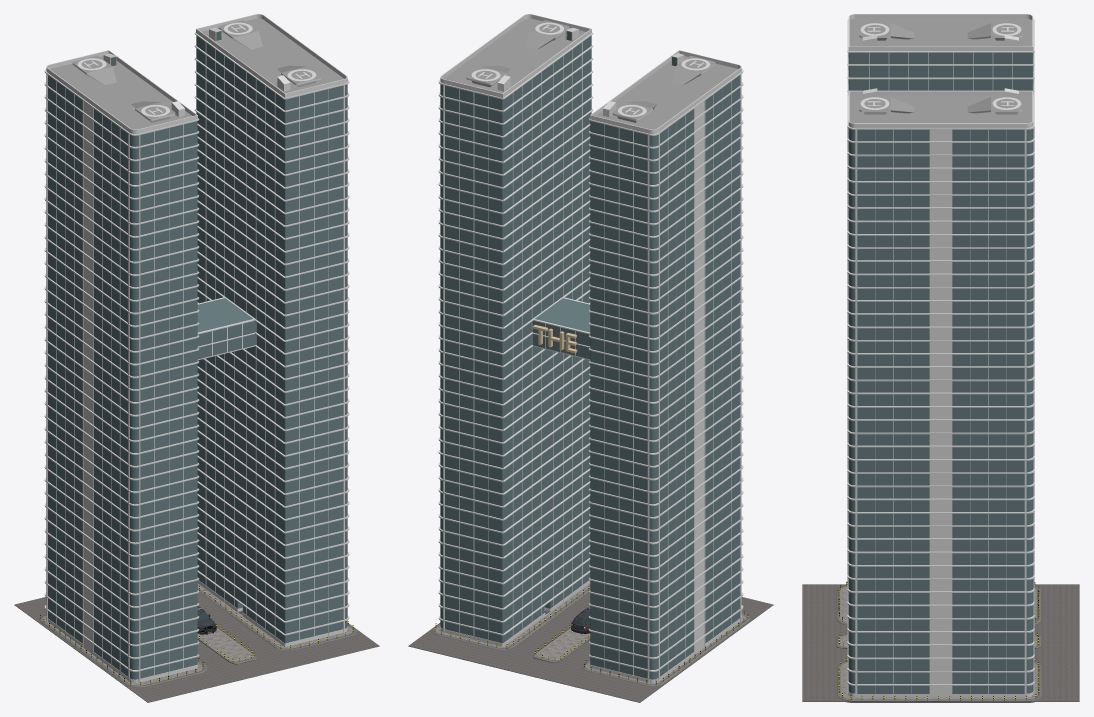
Rendered from models.glb.
3 renders of one model, left to right at view 1: azimuth 30°, elevation 25°; view 2: azimuth 150°, elevation 25°; view 3: azimuth 270°, elevation 25°, orthographic. The views are drawn at different scales.
Parts seen in each view (by area): view 1: hotel body; view 2: hotel body; view 3: hotel body.
Part boxes in pixels (x1,y1,x2,y2): hotel body: (14, 14, 379, 702); hotel body: (408, 14, 773, 702); hotel body: (802, 14, 1079, 702).
Bounding box in the file's own units: 10 × 23.11 × 10.
Materials: 33 (8 with a texture image).
